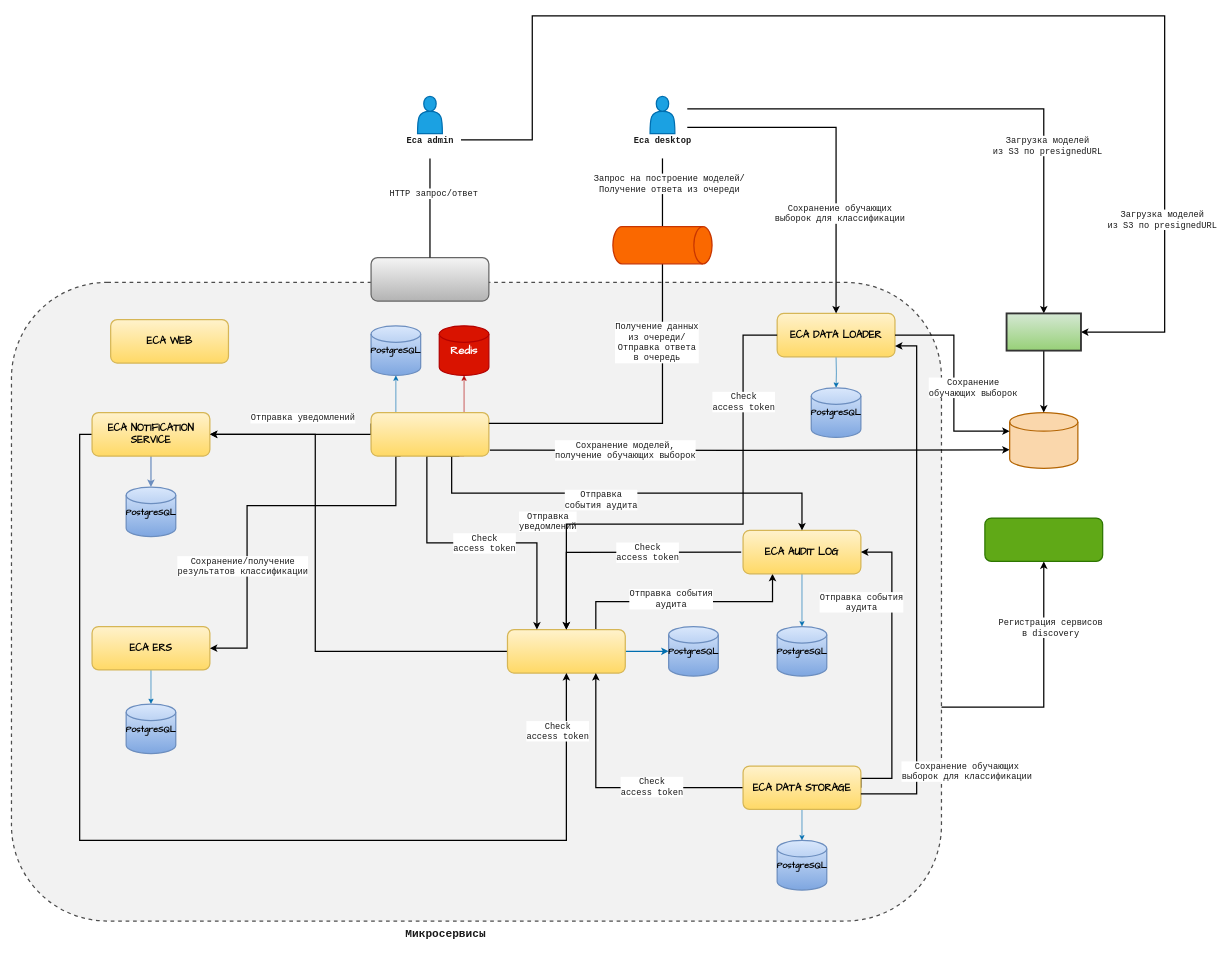
The diagram is 1227 pixels wide and 956 high, and some of its shapes have lost their labels. The box of each missing label's shape, as (x1, y1, x2, y2) in pixels:
API GATEWAY: (370, 257, 489, 301)
DISCOVERY SERVER: (984, 517, 1103, 562)
ECA OAUTH: (507, 629, 626, 673)
ECA SERVER: (370, 412, 489, 456)
RABBIT MQ: (612, 226, 712, 264)
S3 PROXY (nginx): (1005, 312, 1082, 351)
S3 storage (minio): (1009, 412, 1078, 469)
